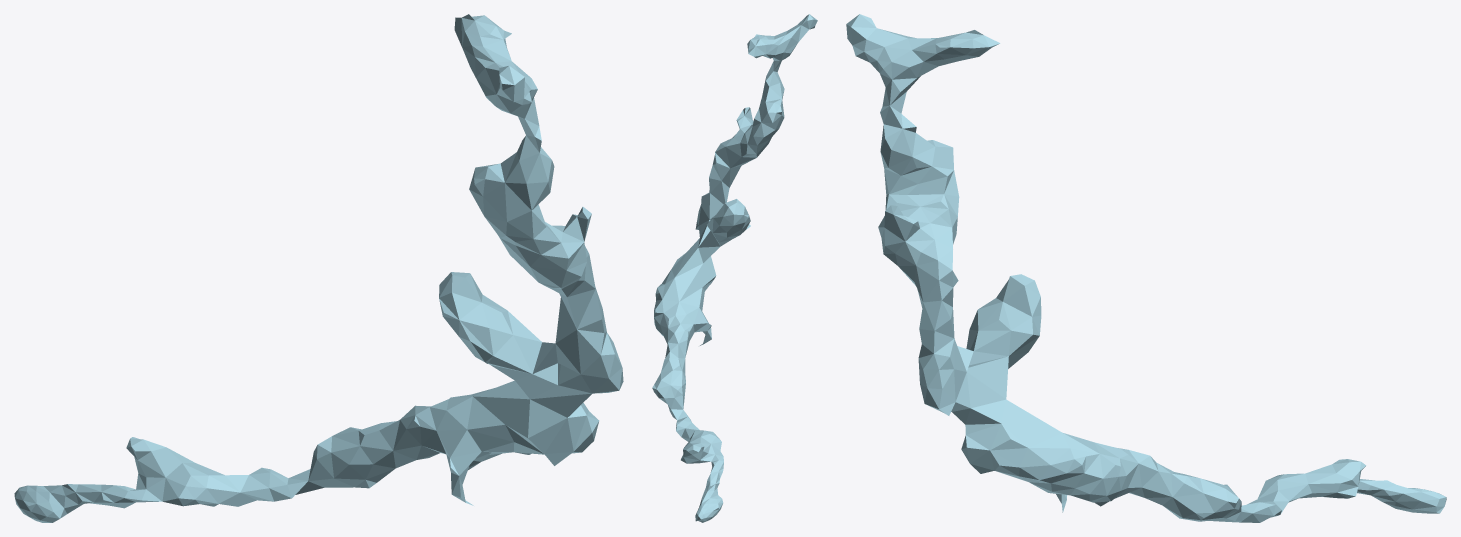
The model's file is livercyst.obj.
The picture shows the model from 3 angles, left to right: view 1: azimuth 30°, elevation 25°; view 2: azimuth 150°, elevation 25°; view 3: azimuth 270°, elevation 25°; orthographic projection. The views are drawn at different scales.
Parts seen in each view (by area): view 1: grp1; view 2: grp1; view 3: grp1.
Boxes of the visible parts, x1,y1,x2,y2 form: grp1: (14,14,623,522); grp1: (652,14,817,522); grp1: (846,14,1446,522).
Size of the model in its own units: 30.32 by 59.94 by 58.49.
